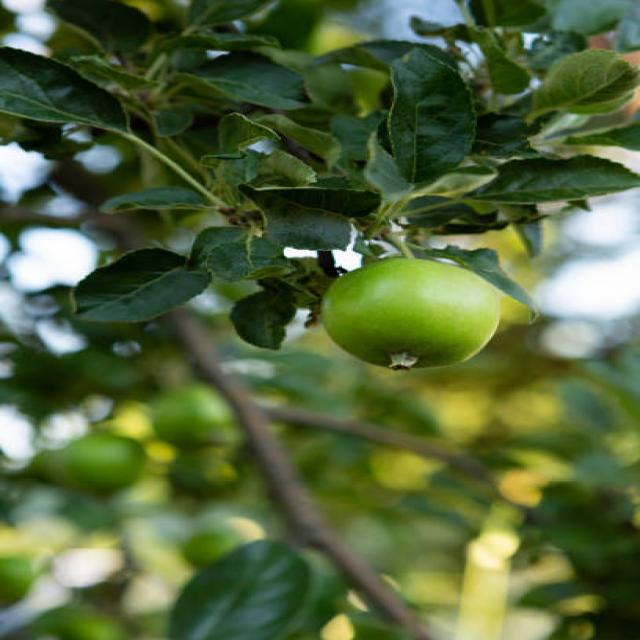Unripe: (324, 255, 497, 372)
